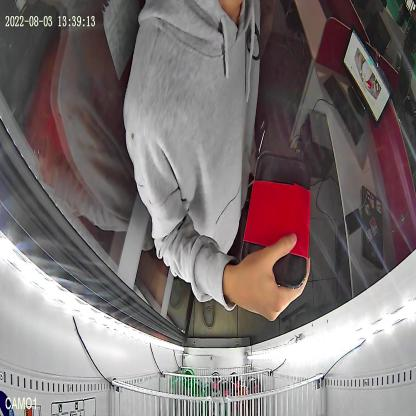red: (240, 150, 312, 289)
